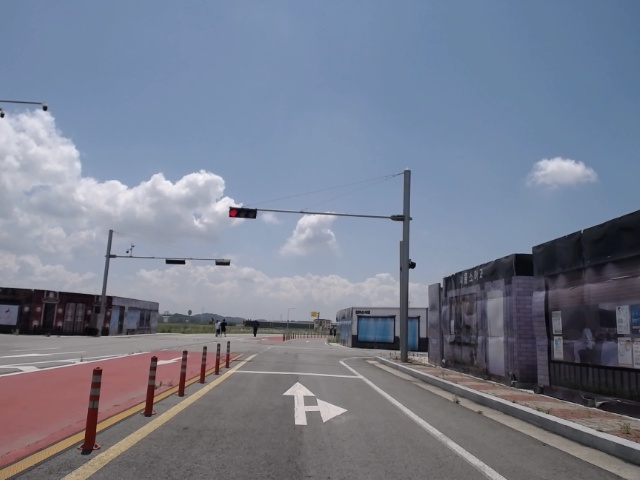red_3: (229, 205, 258, 220)
